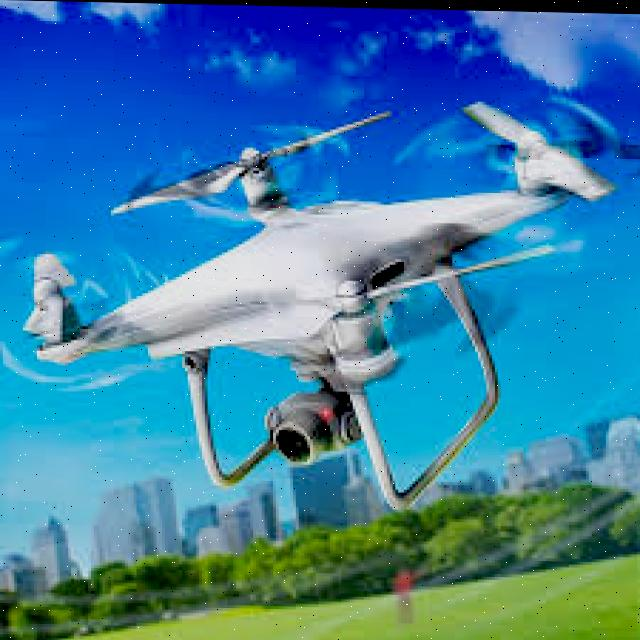drone: (15, 80, 640, 525)
